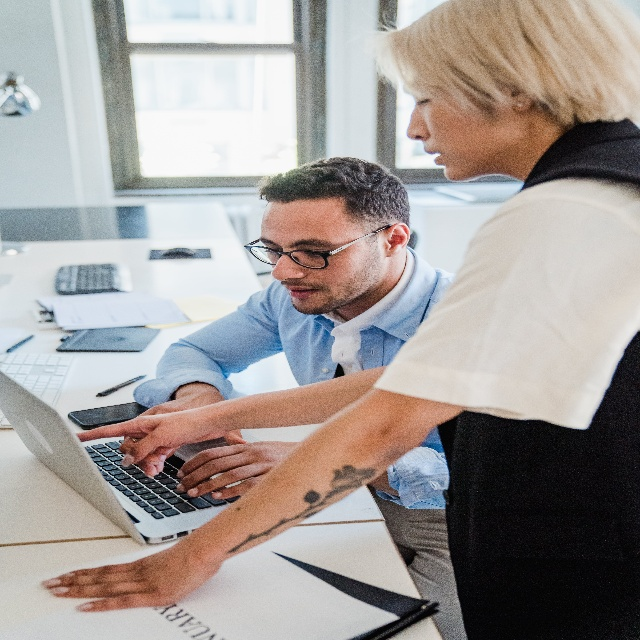Gafas: (244, 224, 391, 270)
Sin_guantes: (42, 529, 222, 613), (77, 405, 225, 478), (176, 439, 301, 500)
